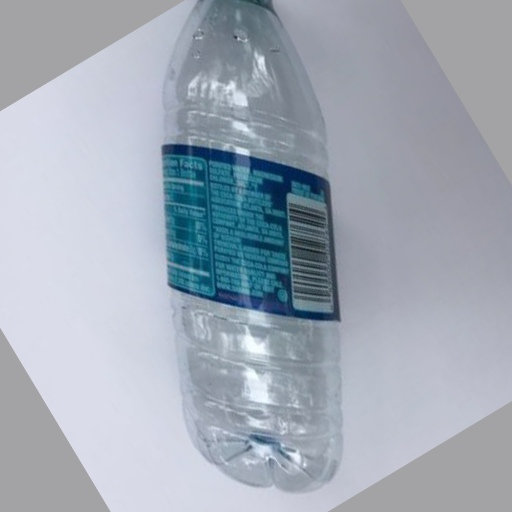Plastic_0: (160, 1, 344, 492)
